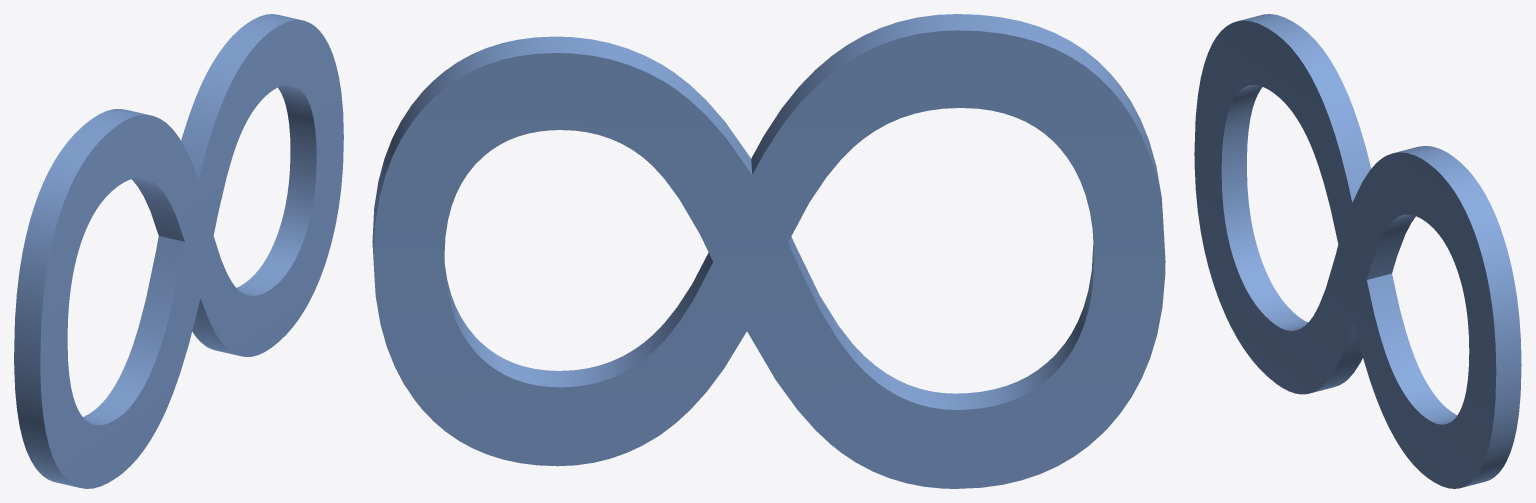
File: Number_8.gltf
The picture shows the model from 3 angles, left to right: view 1: azimuth 30°, elevation 25°; view 2: azimuth 150°, elevation 25°; view 3: azimuth 270°, elevation 25°; orthographic projection. The views are drawn at different scales.
Parts seen in each view (by area): view 1: Sub_1_Cell_1_2_Number_8; view 2: Sub_1_Cell_1_2_Number_8; view 3: Sub_1_Cell_1_2_Number_8.
Boxes of the visible parts, x1=… form: Sub_1_Cell_1_2_Number_8: x1=14, y1=14, x2=343, y2=488; Sub_1_Cell_1_2_Number_8: x1=372, y1=14, x2=1165, y2=488; Sub_1_Cell_1_2_Number_8: x1=1194, y1=14, x2=1521, y2=488.
Bounding box in the file's own units: 0.0231 × 0.0166 × 0.014.
